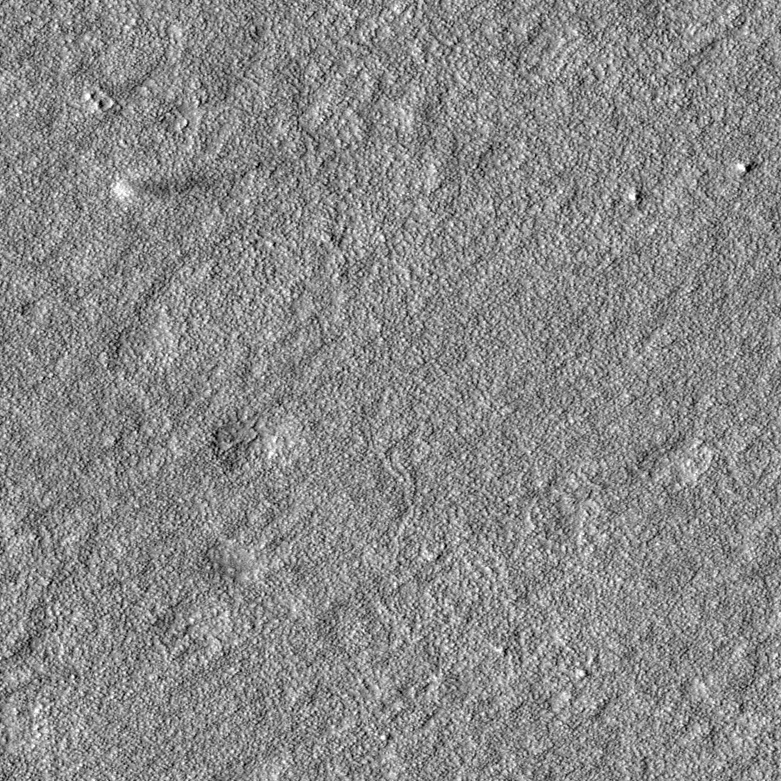dust_devil: (112, 170, 217, 204)
